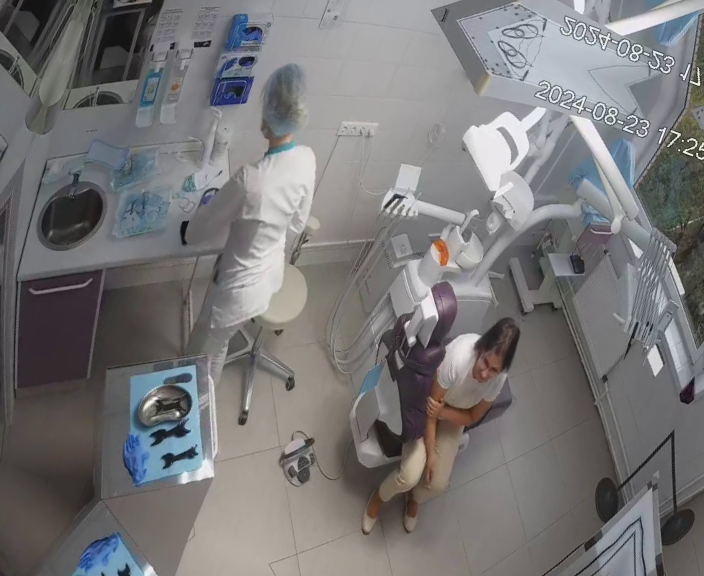Empty: (305, 260, 553, 566)
